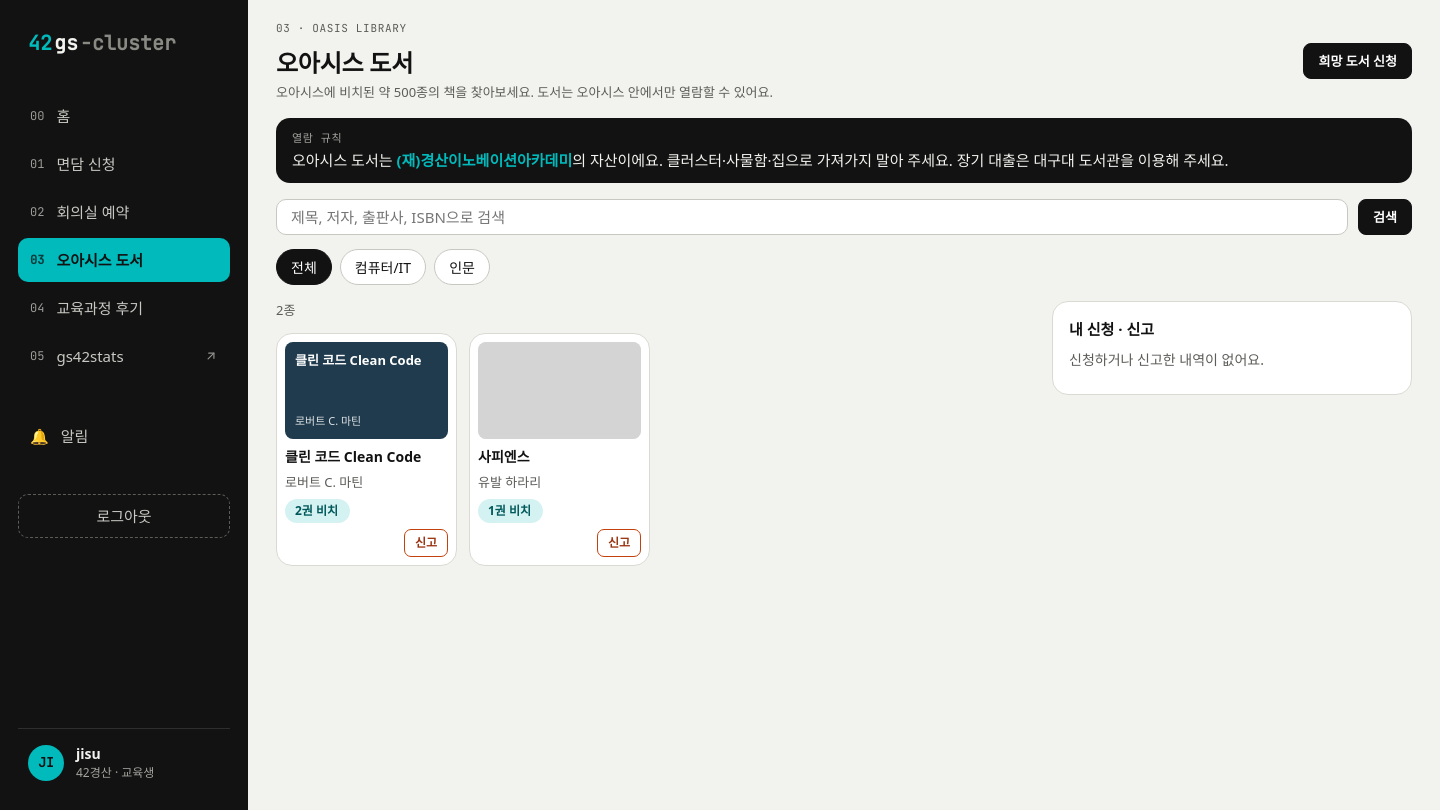
Test: 오아시스 도서 화면 › 훼손 신고는 내용이 없으면 보내지 않고, 서버 오류 코드를 안내한다
Expected: the heading "오아시스 도서" is shown, [276,46,413,78]
Click the button with aria-label "클린 코드 Clean Code 신고" at (426, 543), box [404,529,448,557]
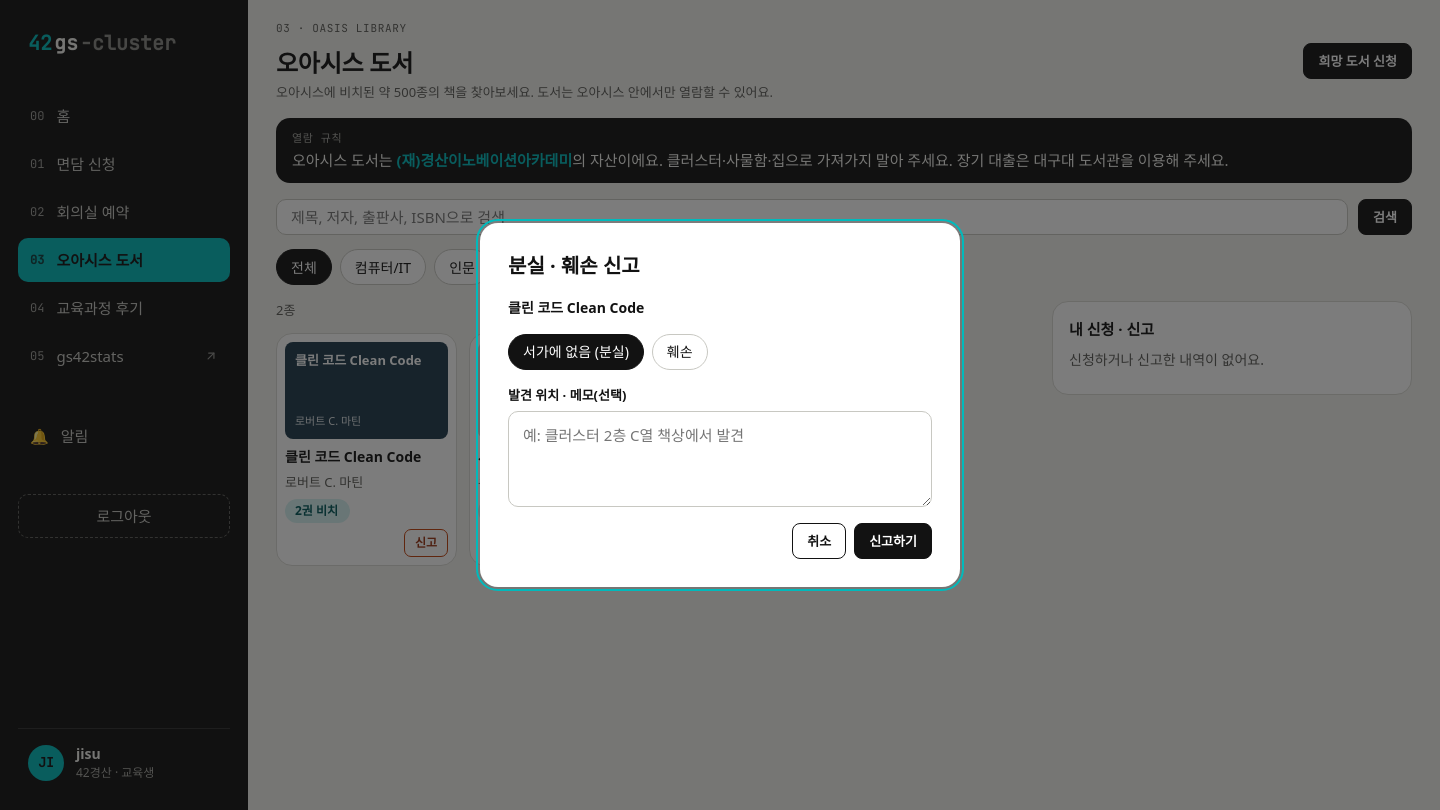
Click the button "훼손" at (680, 352), box [652,334,708,370]
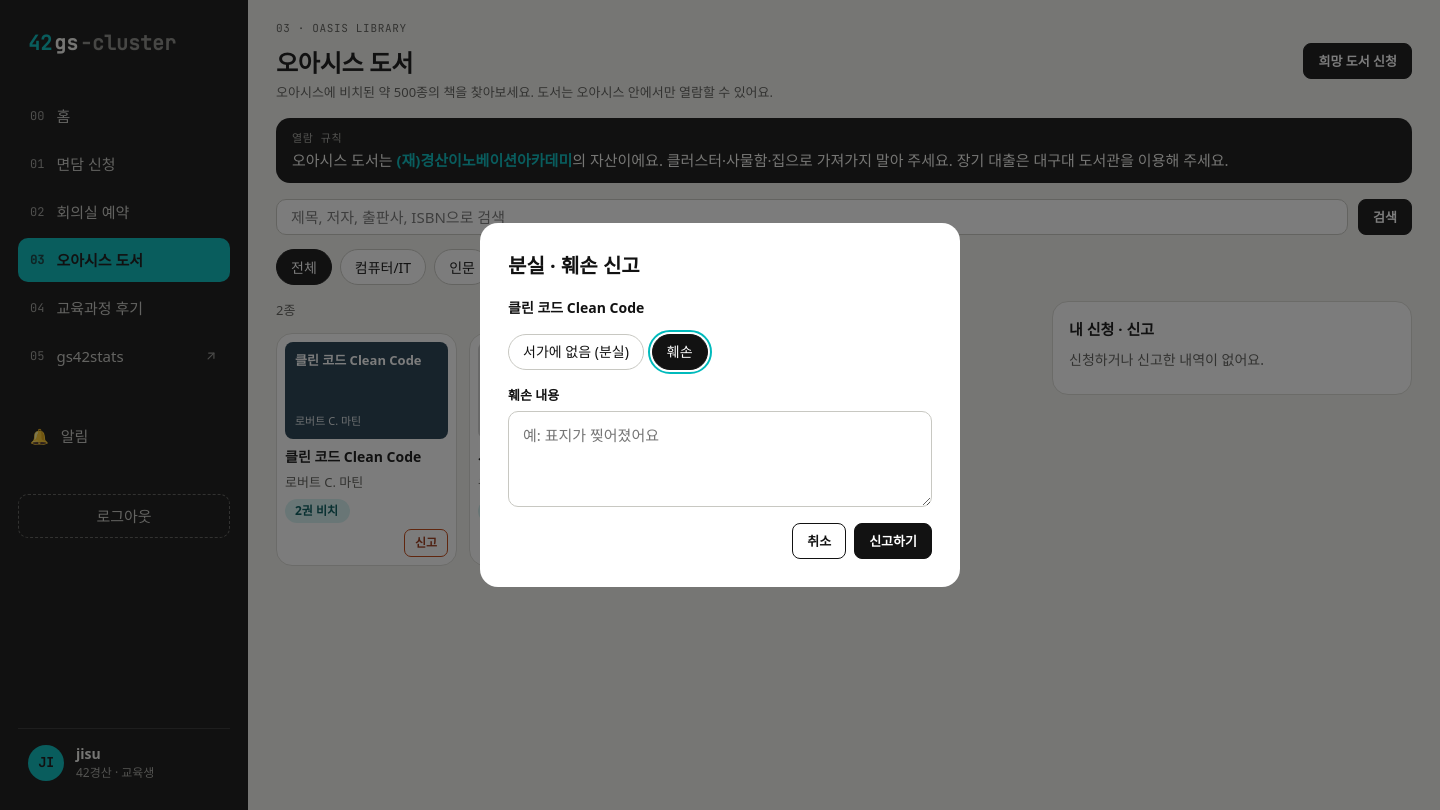
Click the button "신고하기" at (893, 541), box [854,523,932,559]
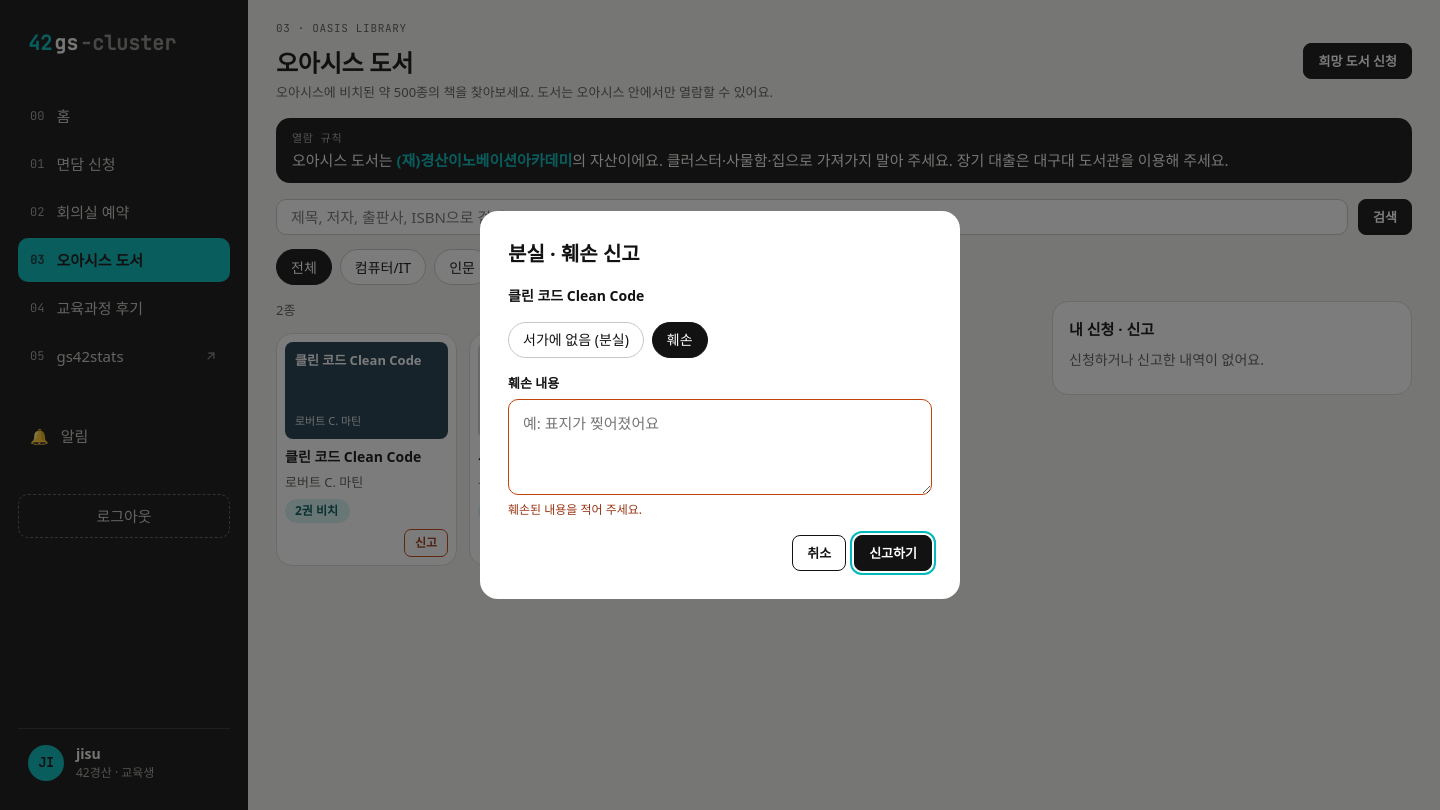
Result: the text "훼손된 내용을 적어 주세요." is shown at [508,501,642,518]
Type "표지가 찢어짐" into the text box labelled "훼손 내용" at (720, 447), box [508,399,932,495]
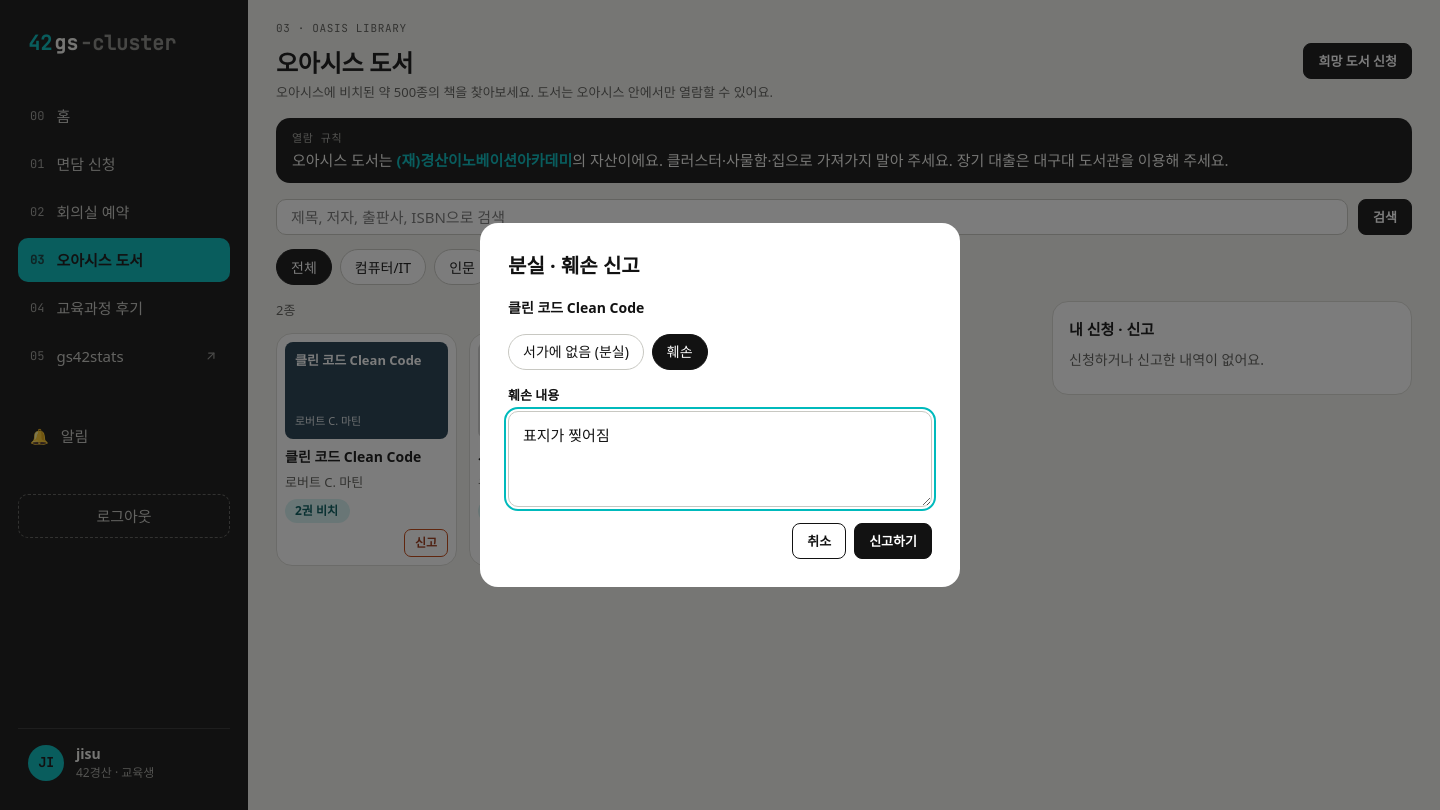
Click the button "신고하기" at (893, 541), box [854,523,932,559]
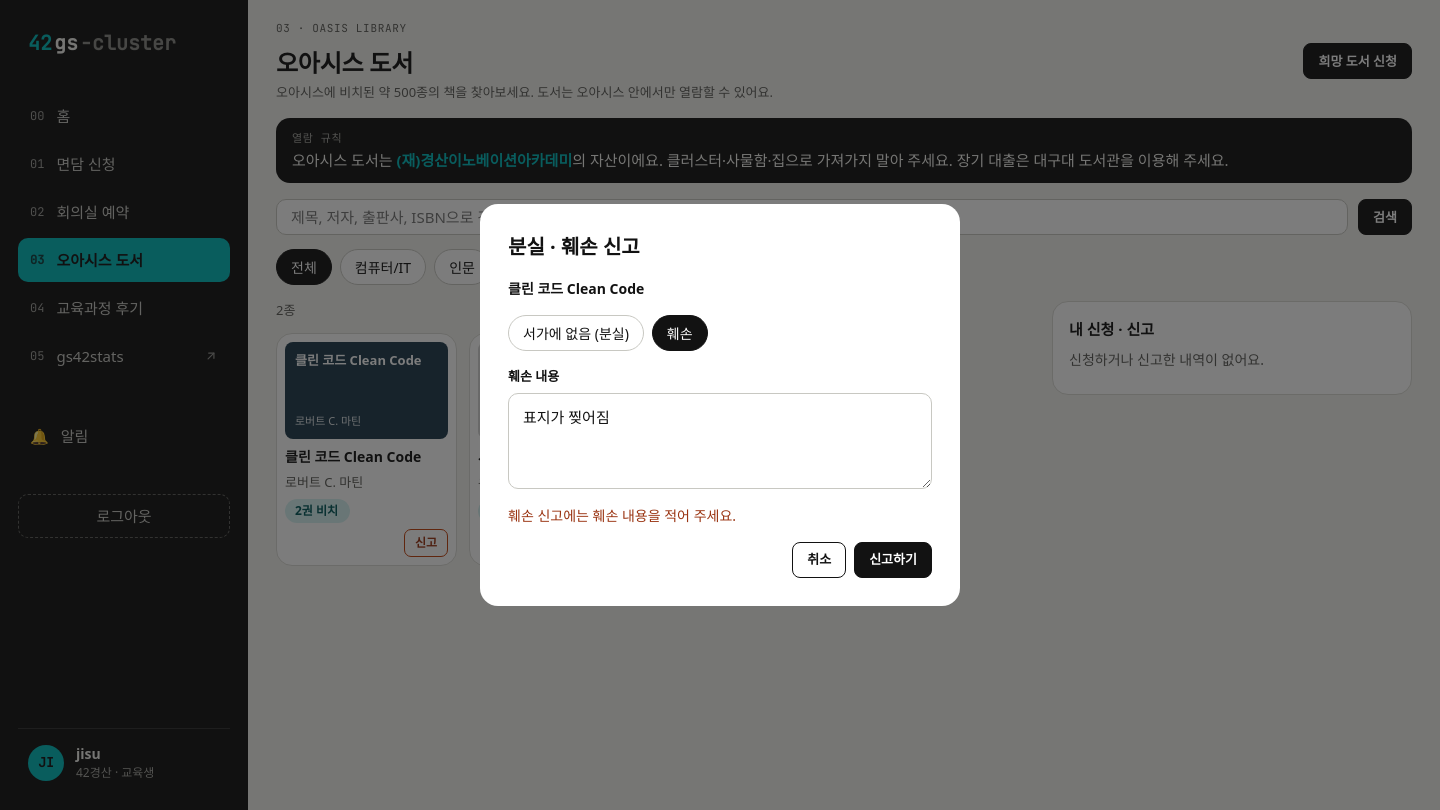
Result: the message shows "훼손 내용을 적어 주세요" at [508,506,736,525]
